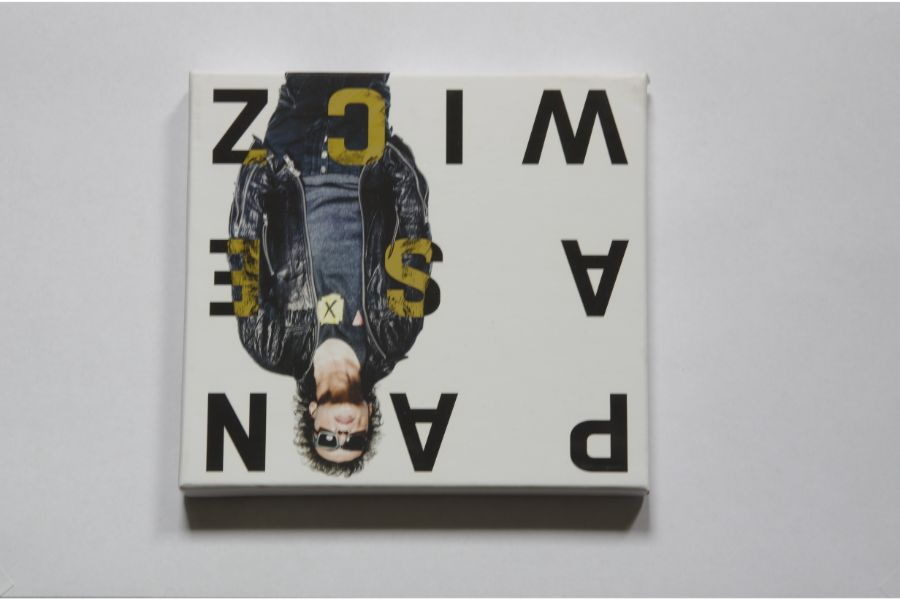album: (178, 68, 654, 495)
